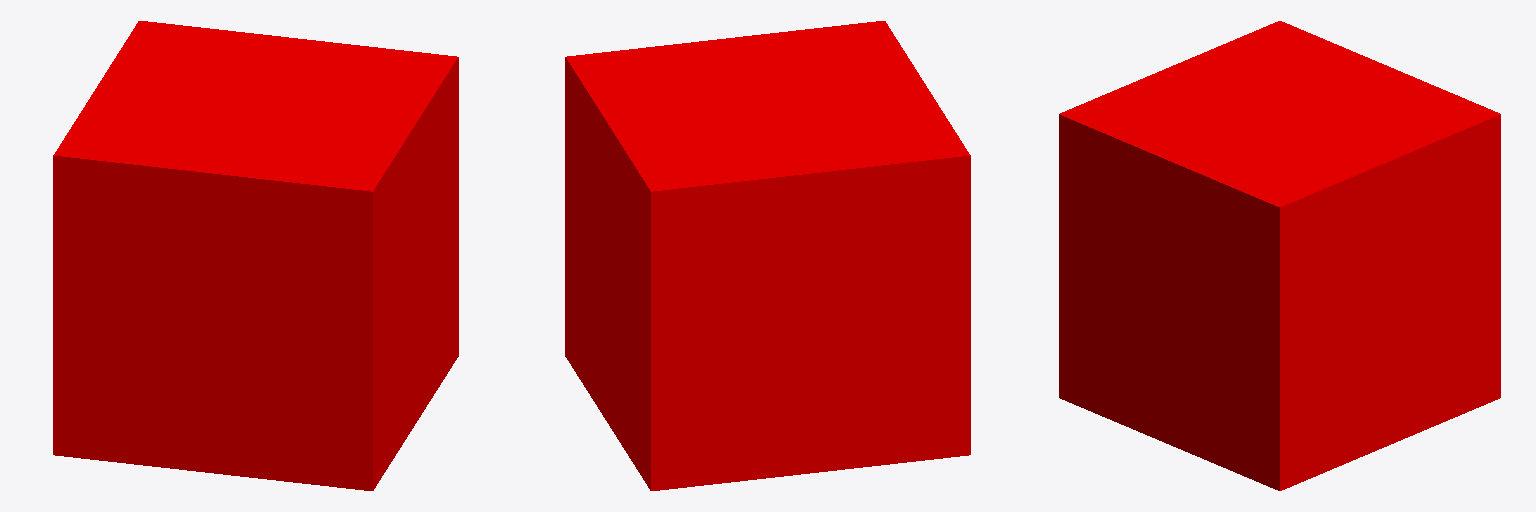
robot.urdf — custom box:
<?xml version="1.0"?>
<robot name="custom box">
    <!-- Custom Box -->
    <material name="red">
        <color rgba="1.0 0.0 0.0 1"/>
    </material>

    <link name="box_link">
        <visual>
            <origin xyz="0 0 0" rpy="0 0 0.7854"/>
            <geometry>
                <box size="0.04 0.04 0.04"/>
            </geometry>
            <material name="red"/>
        </visual>
        <collision>
            <origin xyz="0 0 0" rpy="0 0 0.7854"/>
            <geometry>
                <box size="0.04 0.04 0.04"/>
            </geometry>
            <surface>
                <friction>
                    <ode>
                        <mu>1</mu> <!-- 마찰 계수 설정 -->
                        <mu2>1</mu2>
                    </ode>
                </friction>
            </surface>
        </collision>
        <inertial>
            <mass value="0.0001"/>
            <origin xyz="0 0 0" rpy="0 0 0.7854"/>
            <inertia ixx="0.0001" ixy="0.0" ixz="0.0" iyy="0.0001" iyz="0.0" izz="0.0001"/>
        </inertial>
    </link>

    <gazebo reference="box_link">
        <material>Gazebo/Red</material>
    </gazebo>
</robot>

--- Render facts (derived) ---
The picture shows the robot from 3 angles, left to right: view 1: azimuth 30°, elevation 25°; view 2: azimuth 150°, elevation 25°; view 3: azimuth 270°, elevation 25°; orthographic projection.
Robot: custom box — 1 links, 0 joints (none); root link box_link; default pose: all joints at 0.
Links seen in each view (by area): view 1: box_link; view 2: box_link; view 3: box_link.
Link boxes in pixels (x1,y1,x2,y2): box_link: (53, 21, 458, 490); box_link: (565, 21, 970, 490); box_link: (1059, 21, 1500, 490).
Size in the robot's own frame: 0.0566 by 0.0566 by 0.04 metres.
Geometry: primitives only (box / cylinder / sphere), no mesh files.
